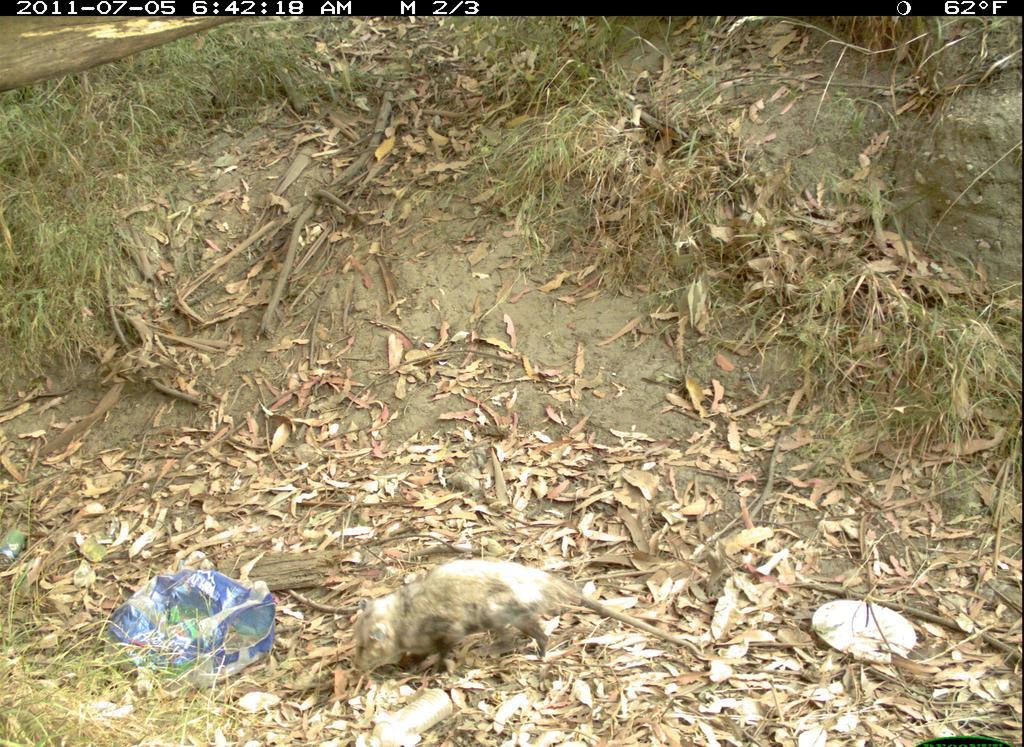opossum: (328, 550, 722, 708)
